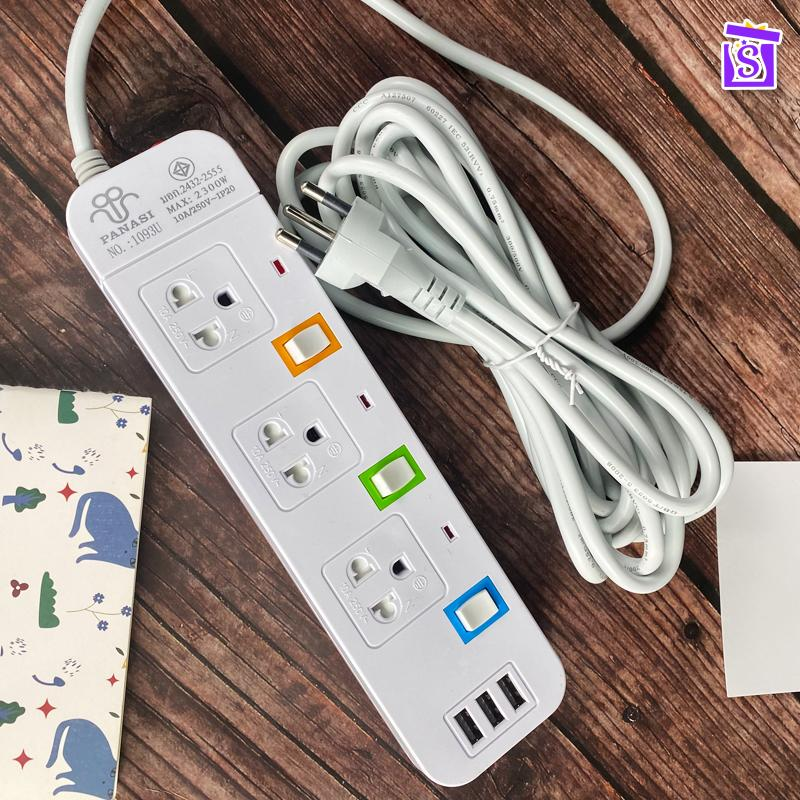Three_eye_plug: (60, 113, 579, 789)
